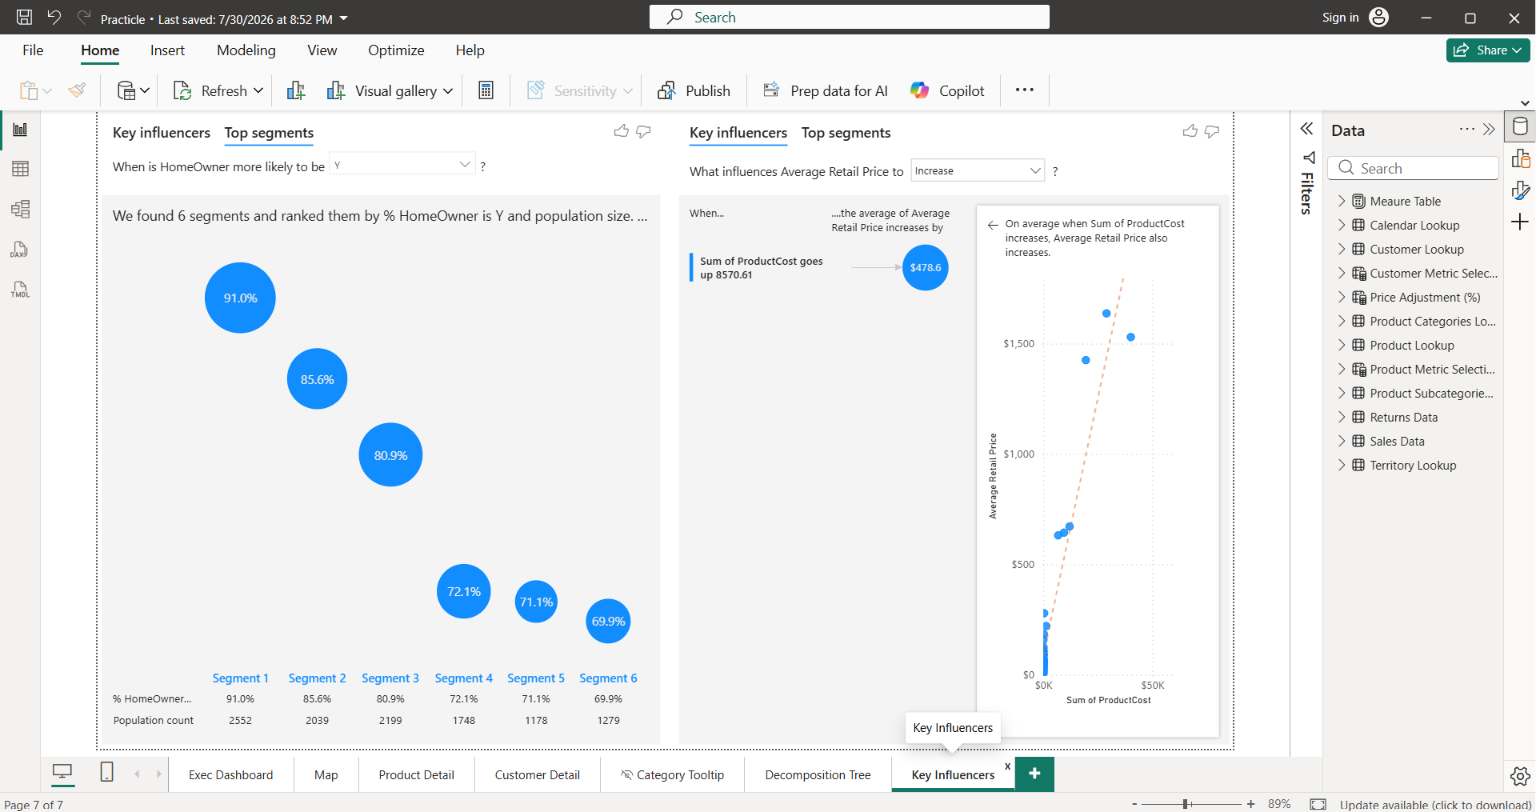

The page's visual inventory and layout, read from the dashboard file:
{"tool":"powerbi","page":{"name":"Key Influencers ","canvas":[1280,720],"ordinal":6},"visuals":[{"type":"keyDriversVisual","fields":{"ExplainBy":["Sum(Customer Lookup.AnnualIncome)","Customer Lookup.EducationLevel","Customer Lookup.IS Parent ?","Customer Lookup.MaritalStatus","Customer Lookup.Occupation"],"Target":["Customer Lookup.HomeOwner"]},"box":[0,0,639.5,719.8],"z":0},{"type":"keyDriversVisual","fields":{"ExplainBy":["Sum(Product Lookup.ProductCost)"],"Details":["Product Subcategories Lookup.SubcategoryName"],"Target":["Meaure Table.Average Retail Price"]},"box":[650,0,630.2,719.8],"z":1000}]}

Visuals, with their boxes on the page's 1280x720 design canvas (x1, y1, x2, y2). These are canvas units, not pixel positions in the 1536x812 screenshot, which may show the page scaled, cropped or inside an application window:
keyDriversVisual - Sum(Customer Lookup.AnnualIncome) x Customer Lookup.EducationLevel: [0, 0, 640, 720]
keyDriversVisual - Sum(Product Lookup.ProductCost) x Product Subcategories Lookup.SubcategoryName: [650, 0, 1280, 720]
